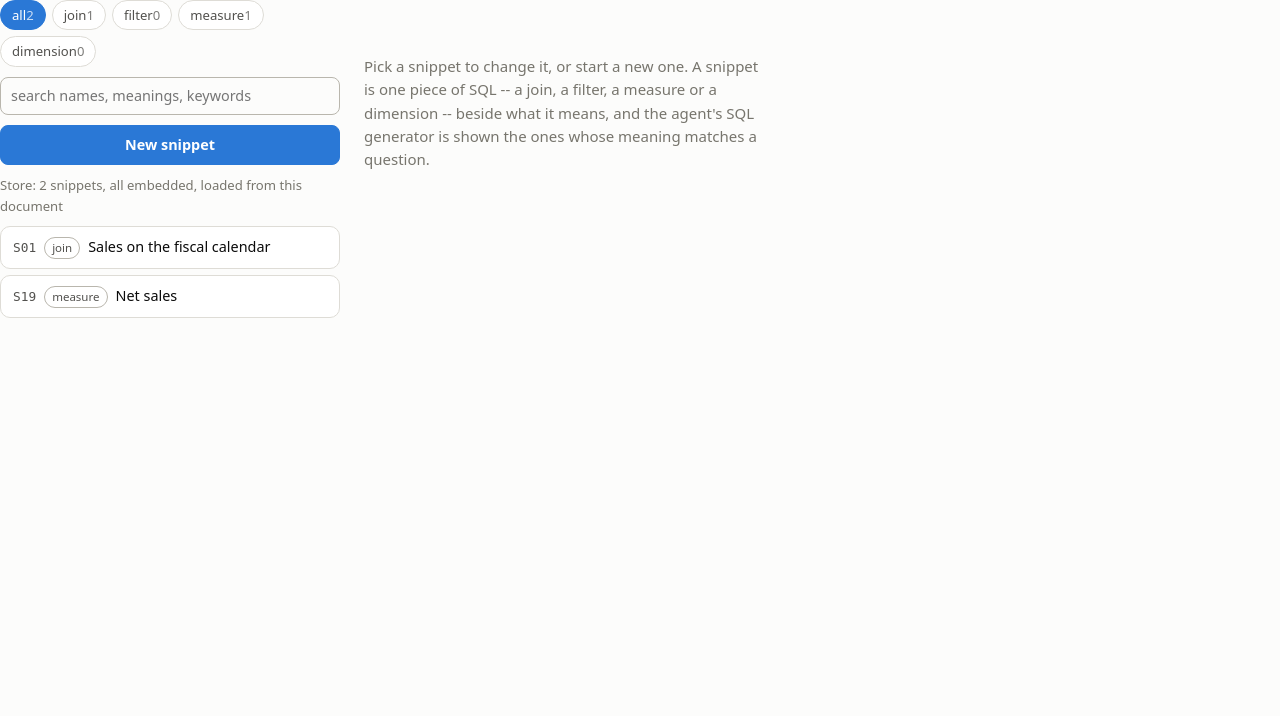
Test: changing and removing one › says a write reached the document but not the store
Click the text "Net sales".
click(146, 295)  # box 116,286 -> 177,305
(page scrolled)
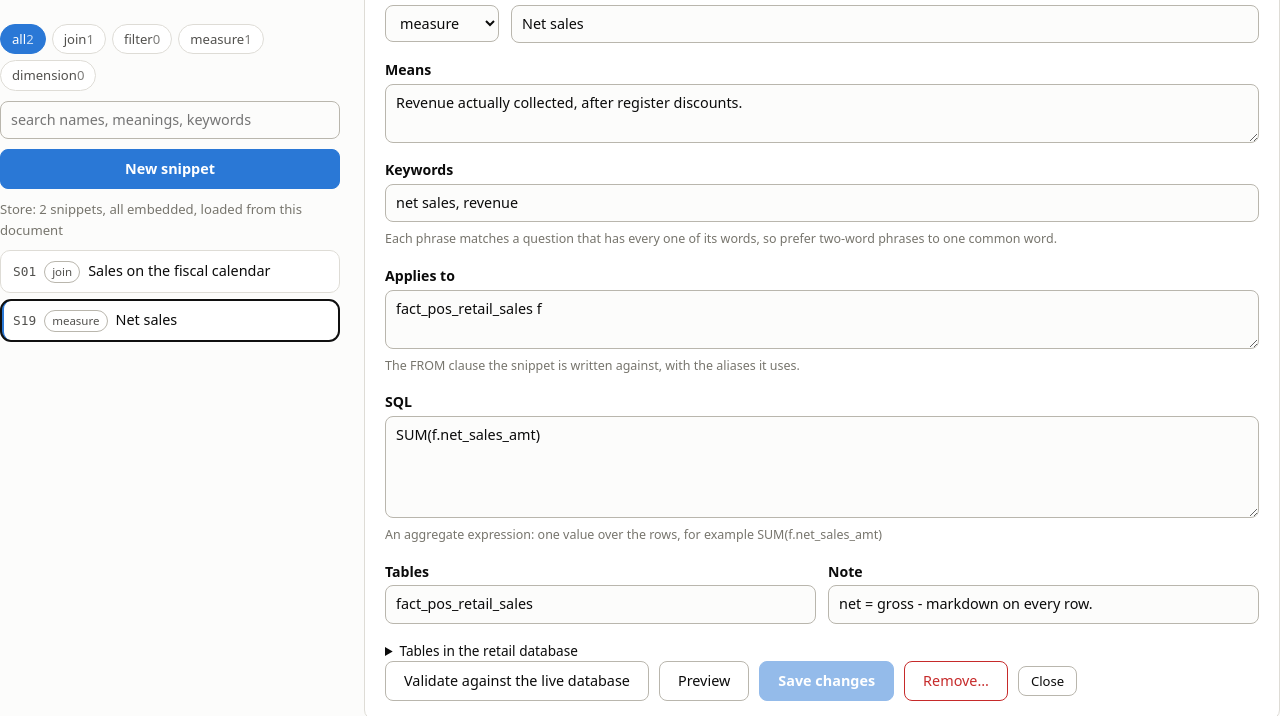
Click the button "Validate against the live database".
click(517, 681)  # box 385,661 -> 649,701
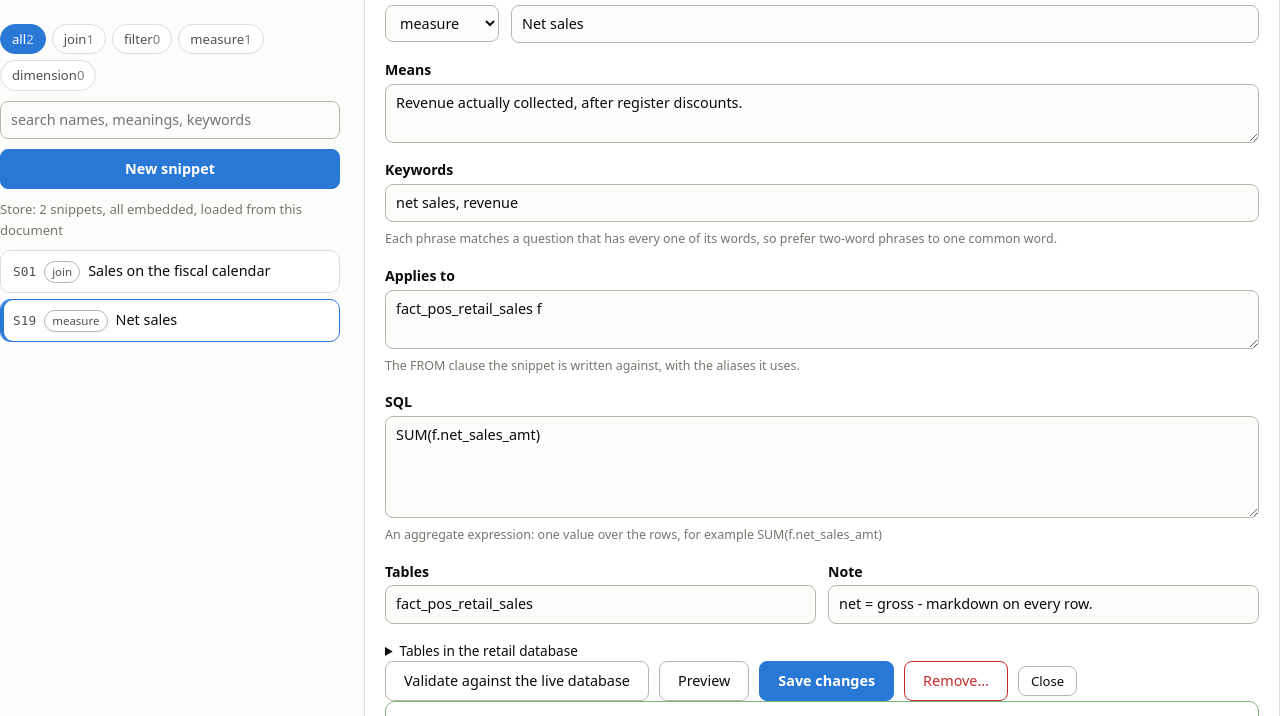
Click the button "Save changes".
click(827, 681)  # box 759,661 -> 894,701
(page scrolled)
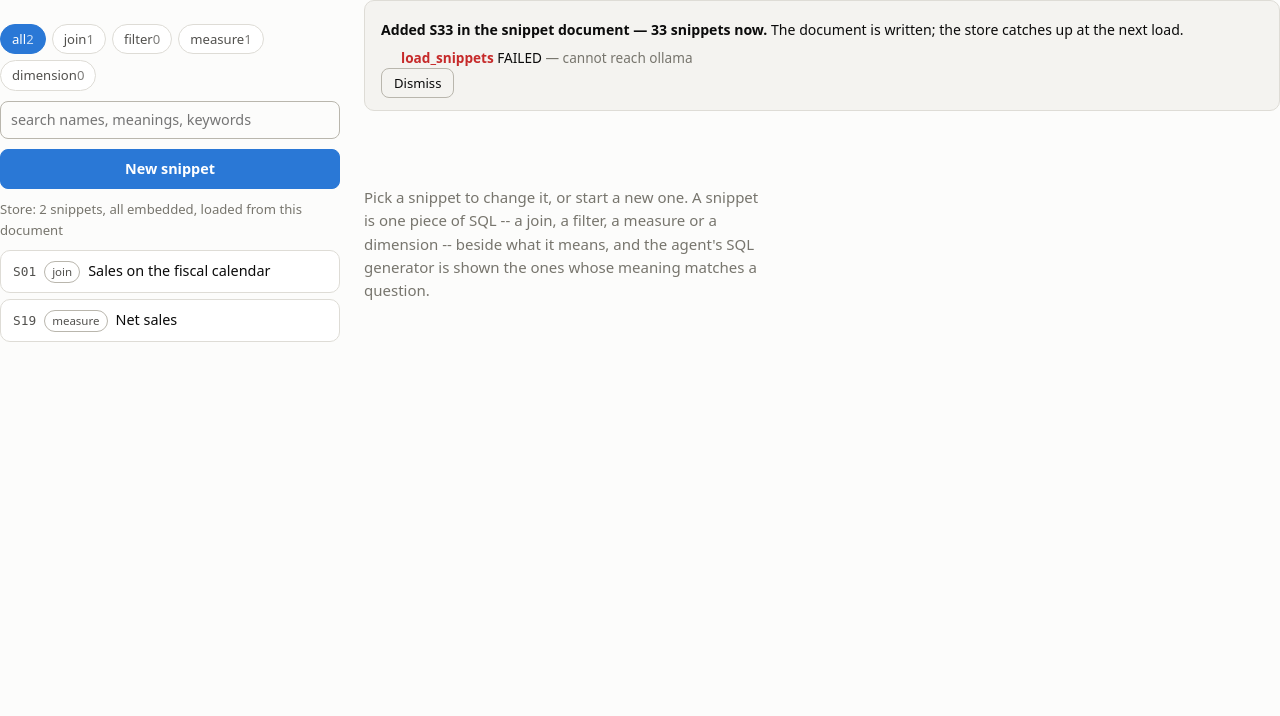
Result: the text "the store catches up at the next load" is shown at 771,20 -> 1184,39
Result: the list item "FAILED" is shown at 497,48 -> 542,67
